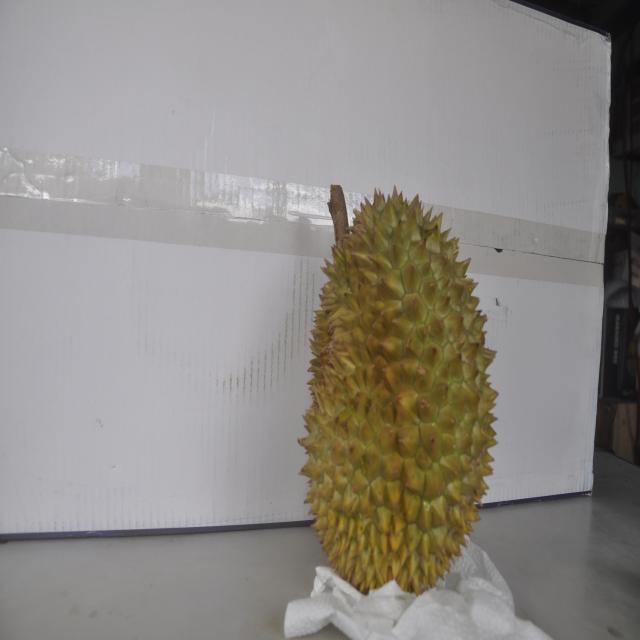mature: (303, 185, 500, 591)
